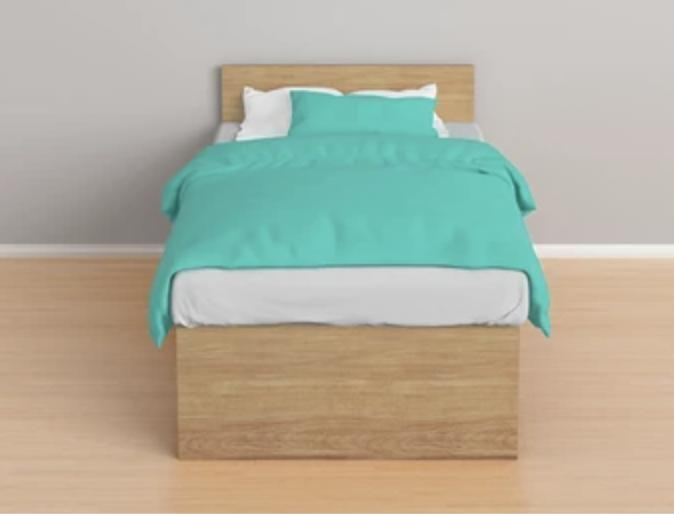Bed-Mattress: (165, 57, 533, 463)
